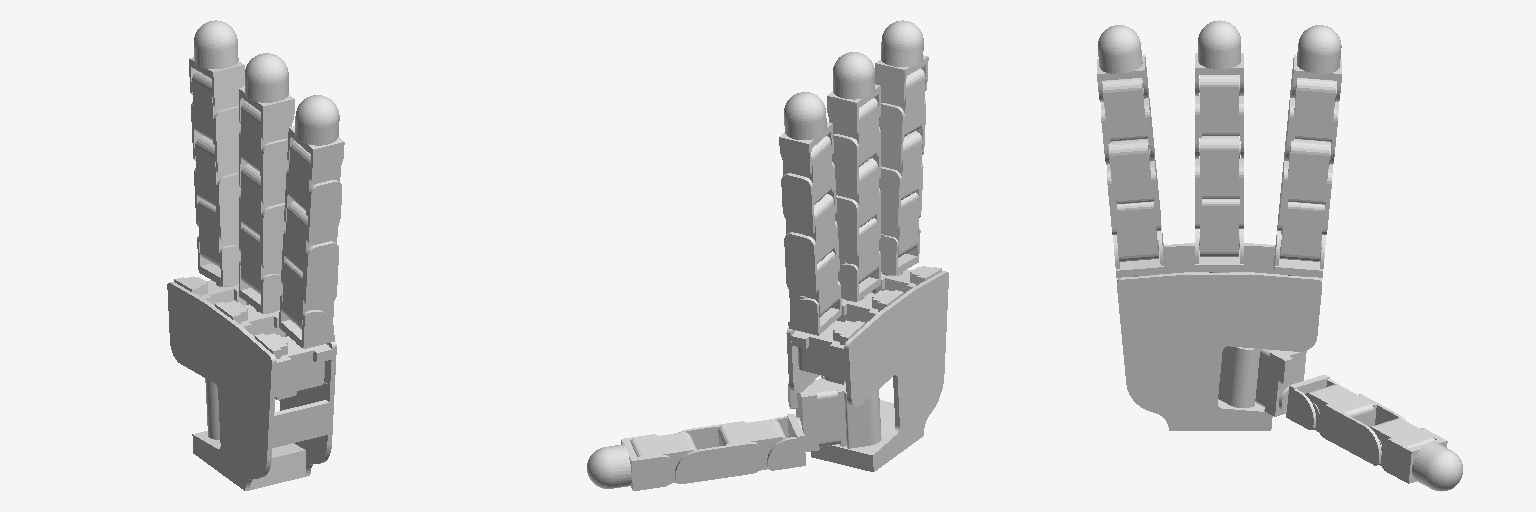
The robot description file, URDF, robot "allegro_right":
<!-- <?xml version="1.0" encoding="utf-8"?> -->
<robot name="allegro_right">
  <!-- zhenyu: add xyzrpy virtual joints between world and robot to represent base link transform [BEGIN] -->
  <link name="world"/>
  <link name="virtual_link_x"/>
  <joint name="virtual_joint_x" type="prismatic">
    <parent link="world"/>
    <child link="virtual_link_x"/>

    <origin rpy="0 0 0" xyz="0 0 0"/>
    <axis xyz="1 0 0"/>
    <limit effort="300" lower="-10" upper="10" velocity="2"/>
  </joint>

  <link name="virtual_link_y"/>
  <joint name="virtual_joint_y" type="prismatic">
    <parent link="virtual_link_x"/>
    <child link="virtual_link_y"/>

    <origin rpy="0 0 0" xyz="0 0 0"/>
    <axis xyz="0 1 0"/>
    <limit effort="300" lower="-10" upper="10" velocity="2"/>
  </joint>

  <link name="virtual_link_z"/>
  <joint name="virtual_joint_z" type="prismatic">
    <parent link="virtual_link_y"/>
    <child link="virtual_link_z"/>

    <origin rpy="0 0 0" xyz="0 0 0"/>
    <axis xyz="0 0 1"/>
    <limit effort="300" lower="-10" upper="10" velocity="2"/>
  </joint>

  <link name="virtual_link_roll"/>
  <joint name="virtual_joint_roll" type="revolute">
    <parent link="virtual_link_z"/>
    <child link="virtual_link_roll"/>

    <origin rpy="0 0 0" xyz="0 0 0"/>
    <axis xyz="1 0 0"/>
    <limit effort="100" velocity="100" lower="-6.283185" upper="6.283185"/>
  </joint>

  <link name="virtual_link_pitch"/>
  <joint name="virtual_joint_pitch" type="revolute">
    <parent link="virtual_link_roll"/>
    <child link="virtual_link_pitch"/>

    <origin rpy="0 0 0" xyz="0 0 0"/>
    <axis xyz="0 1 0"/>
    <limit effort="100" velocity="100" lower="-6.283185" upper="6.283185"/>
  </joint>

  <link name="virtual_link_yaw"/>
  <joint name="virtual_joint_yaw" type="revolute">
    <parent link="virtual_link_pitch"/>
    <child link="virtual_link_yaw"/>

    <origin rpy="0 0 0" xyz="0 0 0"/>
    <axis xyz="0 0 1"/>
    <limit effort="100" velocity="100" lower="-6.283185" upper="6.283185"/>
  </joint>

  <joint name="virtual_robot" type="fixed">
    <parent link="virtual_link_yaw"/>
    <child link="base_link"/>
    <origin rpy="0 0 0" xyz="0 0 0"/>
  </joint>
  <!-- zhenyu: add xyzrpy virtual joints between world and robot to represent base link transform [END] -->

  <link name="base_link">
    <inertial>
      <mass value="0.4154"/>
      <origin rpy="0 0 0" xyz="0 0 0"/>
      <inertia ixx="0.0001" ixy="0" ixz="0" iyy="0.0001" iyz="0" izz="0.0001"/>
    </inertial>
    <visual>
      <geometry>
        <mesh filename="meshes/visual/base_link_right.obj"/>
      </geometry>
      <origin rpy="1.5707949999999999 0 0" xyz="0 0 0"/>
      <material name="white">
        <color rgba=".9 .9 .9 1"/>
      </material>
    </visual>
    <collision>
      <origin rpy="0 0 0" xyz="-0.0089999999999999993 0 -0.023"/>
      <geometry>
        <box size="0.0414 0.112 0.0448"/>
      </geometry>
    </collision>
    <collision>
      <origin rpy="0 0 0" xyz="-0.0089999999999999993 -0.0253 -0.066699999999999995"/>
      <geometry>
        <box size="0.0414 0.0538 0.0428"/>
      </geometry>
    </collision>
    <collision>
      <origin rpy="0 0 0" xyz="-0.0092999999999999992 -0.0055700000000000003 -0.088739999999999999"/>
      <geometry>
        <box size="0.0414 0.0720 0.013"/>
      </geometry>
    </collision>
  </link> <!--  virtual link-->
  <link name="link_0.0">
    <visual>
      <geometry>
        <mesh filename="meshes/visual/link_0.0.obj"/>
      </geometry>
      <material name="white">
        <color rgba=".9 .9 .9 1"/>
      </material>
    </visual>
    <collision>
      <geometry>
        <box size="0.0196 0.0275 0.0164"/>
      </geometry>
      <origin rpy="0 0 0" xyz="0 0 0.0082000000000000007"/>
    </collision>
    <inertial>
      <mass value="0.0119"/>
      <origin xyz="0 0 0" rpy="0 0 0"/>
      <inertia ixx="1.01666658333e-06" ixy="0" ixz="0" iyy="6.4767733333299999e-07" iyz="0" izz="1.01666658333e-06"/>
    </inertial>
  </link>
  <joint name="joint_0.0" type="revolute">
    <axis xyz="0 0 -1"/>
    <limit effort="10" lower="-0.47" upper="0.47" velocity="3.14"/>
    <parent link="base_link"/>
    <child link="link_0.0"/>
    <origin rpy="0.087266462550000007 0 0" xyz="0 -0.043499999999999997 -0.001542"/>
  </joint>
  <link name="link_1.0">
    <inertial>
      <mass value="0.065"/>
      <origin xyz="0 0 0" rpy="0 0 0"/>
      <inertia ixx="7.9565416666700005e-05" ixy="-1.7198999999999999e-05" ixz="8.7587499999999998e-06" iyy="2.4708883333300001e-05" iyz="-2.413125e-05" izz="7.9565416666700005e-05"/>
    </inertial>
    <visual>
      <geometry>
        <mesh filename="meshes/visual/link_1.0.obj"/>
      </geometry>
      <material name="white">
        <color rgba=".9 .9 .9 1"/>
      </material>
    </visual>
    <collision>
      <geometry>
        <box size="0.0196 0.0275 0.054"/>
      </geometry>
      <origin rpy="0 0 0" xyz="0 0 0.027"/>
    </collision>
  </link>
  <joint name="joint_1.0" type="revolute">
    <limit effort="10" lower="-0.196" upper="1.61" velocity="3.14"/>
    <axis xyz="0 1 0"/>
    <parent link="link_0.0"/>
    <child link="link_1.0"/>
    <origin xyz="0 0 0.016400000000000001"/>
  </joint>
  <link name="link_2.0">
    <inertial>
      <mass value="0.0355"/>
      <origin xyz="0 0 0" rpy="0 0 0"/>
      <inertia ixx="2.63979183333e-05" ixy="-6.6796800000000001e-06" ixz="4.7836250000000003e-06" iyy="1.34948516667e-05" iyz="-9.3719999999999994e-06" izz="2.63979183333e-05"/>
    </inertial>
    <visual>
      <geometry>
        <mesh filename="meshes/visual/link_2.0.obj"/>
      </geometry>
      <material name="white">
        <color rgba=".9 .9 .9 1"/>
      </material>
    </visual>
    <collision>
      <geometry>
        <box size="0.0196 0.0275 0.0384"/>
      </geometry>
      <origin rpy="0 0 0" xyz="0 0 0.019199999999999998"/>
    </collision>
  </link>
  <joint name="joint_2.0" type="revolute">
    <axis xyz="0 1 0"/>
    <limit effort="10" lower="-0.174" upper="1.709" velocity="3.14"/>
    <parent link="link_1.0"/>
    <child link="link_2.0"/>
    <origin xyz="0 0 0.053999999999999999"/>
  </joint>
  <link name="link_3.0">
    <visual>
      <geometry>
        <mesh filename="meshes/visual/link_3.0.obj"/>
      </geometry>
      <material name="white">
        <color rgba=".9 .9 .9 1"/>
      </material>
    </visual>
    <collision>
      <geometry>
        <box size="0.0196 0.0269 0.022"/>
      </geometry>
      <origin rpy="0 0 0" xyz="0 0 0.0047000000000000002"/>
    </collision>
    <inertial>
      <origin rpy="0 0 0" xyz="0 0 0.013350000000000001"/>
      <mass value="0.02"/>
      <inertia ixx="1.0000000000000001e-05" ixy="0" ixz="0" iyy="2.0000000000000002e-05" iyz="0" izz="2.0000000000000002e-05"/>
    </inertial>
  </link>
  <joint name="joint_3.0" type="revolute">
    <axis xyz="0 1 0"/>
    <limit effort="10" lower="-0.227" upper="1.618" velocity="3.14"/>
    <parent link="link_2.0"/>
    <child link="link_3.0"/>
    <origin xyz="0 0 0.038399999999999997"/>
  </joint>
  <link name="link_3.0_tip">
    <inertial>
      <mass value="0.0168"/>
      <origin xyz="0 0 0" rpy="0 0 0"/>
      <inertia ixx="9.6800000000000009e-07" ixy="0" ixz="0" iyy="9.6800000000000009e-07" iyz="0" izz="9.6800000000000009e-07"/>
    </inertial>
    <visual>
      <geometry>
        <mesh filename="meshes/visual/link_tip.obj"/>
      </geometry>
      <material name="white">
        <color rgba=".9 .9 .9 1"/>
      </material>
    </visual>
    <collision>
      <geometry>
        <mesh filename="meshes/collision/link_tip.obj"/>
      </geometry>
    </collision>
  </link>
  <joint name="joint_3.0_tip" type="fixed">
    <parent link="link_3.0"/>
    <child link="link_3.0_tip"/>
    <origin rpy="0 0 0" xyz="0 0 0.026700000000000002"/>
  </joint>
  <link name="link_4.0">
    <inertial>
      <mass value="0.005"/>
      <origin xyz="0 0 0"/>
      <inertia ixx="5.1458000000000001e-05" iyy="5.1458000000000001e-05" izz="6.1249999999999998e-05" ixy="0" ixz="0" iyz="0"/>
    </inertial>
    <visual>
      <geometry>
        <mesh filename="meshes/visual/link_0.0.obj"/>
      </geometry>
      <material name="white">
        <color rgba=".9 .9 .9 1"/>
      </material>
    </visual>
    <collision>
      <geometry>
        <box size="0.0196 0.0275 0.0164"/>
      </geometry>
      <origin rpy="0 0 0" xyz="0 0 0.0082000000000000007"/>
    </collision>
  </link>
  <joint name="joint_4.0" type="revolute">
    <axis xyz="0 0 -1"/>
    <limit effort="10" lower="-0.47" upper="0.47" velocity="3.14"/>
    <parent link="base_link"/>
    <child link="link_4.0"/>
    <origin rpy="0 0 0" xyz="0 0 0.00069999999999999999"/>
  </joint>
  <link name="link_5.0">
    <inertial>
      <mass value="0.065"/>
      <origin xyz="0 0 0" rpy="0 0 0"/>
      <inertia ixx="7.9565416666700005e-05" ixy="-1.7198999999999999e-05" ixz="8.7587499999999998e-06" iyy="2.4708883333300001e-05" iyz="-2.413125e-05" izz="7.9565416666700005e-05"/>
    </inertial>
    <visual>
      <geometry>
        <mesh filename="meshes/visual/link_1.0.obj"/>
      </geometry>
      <material name="white">
        <color rgba=".9 .9 .9 1"/>
      </material>
    </visual>
    <collision>
      <geometry>
        <box size="0.0196 0.0275 0.054"/>
      </geometry>
      <origin rpy="0 0 0" xyz="0 0 0.027"/>
    </collision>
  </link>
  <joint name="joint_5.0" type="revolute">
    <limit effort="10" lower="-0.196" upper="1.61" velocity="3.14"/>
    <axis xyz="0 1 0"/>
    <parent link="link_4.0"/>
    <child link="link_5.0"/>
    <origin xyz="0 0 0.016400000000000001"/>
  </joint>
  <link name="link_6.0">
    <inertial>
      <mass value="0.0355"/>
      <origin xyz="0 0 0" rpy="0 0 0"/>
      <inertia ixx="2.63979183333e-05" ixy="-6.6796800000000001e-06" ixz="4.7836250000000003e-06" iyy="1.34948516667e-05" iyz="-9.3719999999999994e-06" izz="2.63979183333e-05"/>
    </inertial>
    <visual>
      <geometry>
        <mesh filename="meshes/visual/link_2.0.obj"/>
      </geometry>
      <material name="white">
        <color rgba=".9 .9 .9 1"/>
      </material>
    </visual>
    <collision>
      <geometry>
        <box size="0.0196 0.0275 0.0384"/>
      </geometry>
      <origin rpy="0 0 0" xyz="0 0 0.019199999999999998"/>
    </collision>
  </link>
  <joint name="joint_6.0" type="revolute">
    <axis xyz="0 1 0"/>
    <limit effort="10" lower="-0.174" upper="1.709" velocity="3.14"/>
    <parent link="link_5.0"/>
    <child link="link_6.0"/>
    <origin xyz="0 0 0.053999999999999999"/>
  </joint>
  <link name="link_7.0">
    <inertial>
      <mass value="0.0388"/>
      <origin xyz="0 0 0" rpy="0 0 0"/>
      <inertia ixx="3.2922317333299999e-05" ixy="-8.0420759999999998e-06" ixz="5.2283000000000004e-06" iyy="1.47493026667e-05" iyz="-1.1283525e-05" izz="3.2922317333299999e-05"/>
    </inertial>
    <visual>
      <geometry>
        <mesh filename="meshes/visual/link_3.0.obj"/>
      </geometry>
      <material name="white">
        <color rgba=".9 .9 .9 1"/>
      </material>
    </visual>
    <collision>
      <geometry>
        <box size="0.0196 0.0269 0.022"/>
      </geometry>
      <origin rpy="0 0 0" xyz="0 0 0.0047000000000000002"/>
    </collision>
  </link>
  <joint name="joint_7.0" type="revolute">
    <axis xyz="0 1 0"/>
    <limit effort="10" lower="-0.227" upper="1.618" velocity="3.14"/>
    <parent link="link_6.0"/>
    <child link="link_7.0"/>
    <origin xyz="0 0 0.038399999999999997"/>
  </joint>
  <link name="link_7.0_tip">
    <inertial>
      <mass value="0.0096"/>
      <origin xyz="0 0 0" rpy="0 0 0"/>
      <inertia ixx="4.7012479999999996e-06" ixy="-1.2559680000000001e-06" ixz="1.2936e-06" iyy="3.6493119999999998e-06" iyz="-1.7622e-06" izz="4.7012479999999996e-06"/>
    </inertial>
    <visual>
      <geometry>
        <mesh filename="meshes/visual/link_tip.obj"/>
      </geometry>
      <material name="white">
        <color rgba=".9 .9 .9 1"/>
      </material>
    </visual>
    <collision>
      <geometry>
        <mesh filename="meshes/collision/link_tip.obj"/>
      </geometry>
    </collision>
  </link>
  <joint name="joint_7.0_tip" type="fixed">
    <parent link="link_7.0"/>
    <child link="link_7.0_tip"/>
    <origin rpy="0 0 0" xyz="0 0 0.026700000000000002"/>
  </joint>
  <link name="link_8.0">
    <inertial>
      <mass value="0.005"/>
      <origin xyz="0 0 0"/>
      <inertia ixx="5.1458000000000001e-05" iyy="5.1458000000000001e-05" izz="6.1249999999999998e-05" ixy="0" ixz="0" iyz="0"/>
    </inertial>
    <visual>
      <geometry>
        <mesh filename="meshes/visual/link_0.0.obj"/>
      </geometry>
      <material name="white">
        <color rgba=".9 .9 .9 1"/>
      </material>
    </visual>
    <collision>
      <geometry>
        <box size="0.0196 0.0275 0.0164"/>
      </geometry>
      <origin rpy="0 0 0" xyz="0 0 0.0082000000000000007"/>
    </collision>
  </link>
  <joint name="joint_8.0" type="revolute">
    <axis xyz="0 0 -1"/>
    <limit effort="10" lower="-0.47" upper="0.47" velocity="3.14"/>
    <parent link="base_link"/>
    <child link="link_8.0"/>
    <origin rpy="-0.087266462550000007 0 0" xyz="0 0.043499999999999997 -0.001542"/>
  </joint>
  <link name="link_9.0">
    <inertial>
      <mass value="0.065"/>
      <origin xyz="0 0 0" rpy="0 0 0"/>
      <inertia ixx="7.9565416666700005e-05" ixy="-1.7198999999999999e-05" ixz="8.7587499999999998e-06" iyy="2.4708883333300001e-05" iyz="-2.413125e-05" izz="7.9565416666700005e-05"/>
    </inertial>
    <visual>
      <geometry>
        <mesh filename="meshes/visual/link_1.0.obj"/>
      </geometry>
      <material name="white">
        <color rgba=".9 .9 .9 1"/>
      </material>
    </visual>
    <collision>
      <geometry>
        <box size="0.0196 0.0275 0.054"/>
      </geometry>
      <origin rpy="0 0 0" xyz="0 0 0.027"/>
    </collision>
  </link>
  <joint name="joint_9.0" type="revolute">
    <limit effort="10" lower="-0.196" upper="1.61" velocity="3.14"/>
    <axis xyz="0 1 0"/>
    <parent link="link_8.0"/>
    <child link="link_9.0"/>
    <origin xyz="0 0 0.016400000000000001"/>
  </joint>
  <link name="link_10.0">
    <inertial>
      <mass value="0.0355"/>
      <origin xyz="0 0 0" rpy="0 0 0"/>
      <inertia ixx="2.63979183333e-05" ixy="-6.6796800000000001e-06" ixz="4.7836250000000003e-06" iyy="1.34948516667e-05" iyz="-9.3719999999999994e-06" izz="2.63979183333e-05"/>
    </inertial>
    <visual>
      <geometry>
        <mesh filename="meshes/visual/link_2.0.obj"/>
      </geometry>
      <material name="white">
        <color rgba=".9 .9 .9 1"/>
      </material>
    </visual>
    <collision>
      <geometry>
        <box size="0.0196 0.0275 0.0384"/>
      </geometry>
      <origin rpy="0 0 0" xyz="0 0 0.019199999999999998"/>
    </collision>
  </link>
  <joint name="joint_10.0" type="revolute">
    <axis xyz="0 1 0"/>
    <limit effort="10" lower="-0.174" upper="1.709" velocity="3.14"/>
    <parent link="link_9.0"/>
    <child link="link_10.0"/>
    <origin xyz="0 0 0.053999999999999999"/>
  </joint>
  <link name="link_11.0">
    <inertial>
      <mass value="0.0096"/>
      <origin xyz="0 0 0" rpy="0 0 0"/>
      <inertia ixx="4.7012479999999996e-06" ixy="-1.2559680000000001e-06" ixz="1.2936e-06" iyy="3.6493119999999998e-06" iyz="-1.7622e-06" izz="4.7012479999999996e-06"/>
    </inertial>
    <visual>
      <geometry>
        <mesh filename="meshes/visual/link_3.0.obj"/>
      </geometry>
      <material name="white">
        <color rgba=".9 .9 .9 1"/>
      </material>
    </visual>
    <collision>
      <geometry>
        <box size="0.0196 0.0269 0.022"/>
      </geometry>
      <origin rpy="0 0 0" xyz="0 0 0.0047000000000000002"/>
    </collision>
  </link>
  <joint name="joint_11.0" type="revolute">
    <axis xyz="0 1 0"/>
    <limit effort="10" lower="-0.227" upper="1.618" velocity="3.14"/>
    <parent link="link_10.0"/>
    <child link="link_11.0"/>
    <origin xyz="0 0 0.038399999999999997"/>
  </joint>
  <link name="link_11.0_tip">
    <inertial>
      <mass value="0.0168"/>
      <origin xyz="0 0 0" rpy="0 0 0"/>
      <inertia ixx="9.6800000000000009e-07" ixy="0" ixz="0" iyy="9.6800000000000009e-07" iyz="0" izz="9.6800000000000009e-07"/>
    </inertial>
    <visual>
      <geometry>
        <mesh filename="meshes/visual/link_tip.obj"/>
      </geometry>
      <material name="white">
        <color rgba=".9 .9 .9 1"/>
      </material>
    </visual>
    <collision>
      <geometry>
        <mesh filename="meshes/collision/link_tip.obj"/>
      </geometry>
    </collision>
  </link>
  <joint name="joint_11.0_tip" type="fixed">
    <parent link="link_11.0"/>
    <child link="link_11.0_tip"/>
    <origin rpy="0 0 0" xyz="0 0 0.026700000000000002"/>
  </joint> <!-- THUMB -->
  <link name="link_12.0">
    <inertial>
      <mass value="0.0176"/>
      <origin xyz="0 0 0" rpy="0 0 0"/>
      <inertia ixx="1.8927333333299998e-05" ixy="-7.1671600000000003e-06" ixz="5.3556799999999997e-06" iyy="1.43008213333e-05" iyz="-6.8067999999999998e-06" izz="1.8927333333299998e-05"/>
    </inertial>
    <visual>
      <geometry>
        <mesh filename="meshes/visual/link_12.0_right.obj"/>
      </geometry>
      <origin rpy="-3.1415899999999999 0 0" xyz="0 0 0"/>
      <material name="white">
        <color rgba=".9 .9 .9 1"/>
      </material>
    </visual>
    <collision>
      <geometry>
        <box size="0.0358 0.034 0.0455"/>
      </geometry>
      <origin rpy="0 0 0" xyz="-0.017899999999999999 -0.0089999999999999993 0.014500000000000001"/>
    </collision>
  </link>
  <joint name="joint_12.0" type="revolute">
    <axis xyz="-1 0 0"/>
    <limit effort="10" lower="0.263" upper="1.396" velocity="3.14"/>
    <parent link="base_link"/>
    <child link="link_12.0"/>
    <origin xyz="-0.018200000000000001 0.019332999999999999 -0.045987" rpy="0 -1.6580627884500001 -1.5707963259"/>
  </joint>
  <link name="link_13.0">
    <inertial>
      <mass value="0.0119"/>
      <origin xyz="0 0 0" rpy="0 0 0"/>
      <inertia ixx="4.24250866667e-06" ixy="-1.0320870000000001e-06" ixz="1.603525e-06" iyy="4.5236263333299997e-06" iyz="-1.4480812499999999e-06" izz="4.24250866667e-06"/>
    </inertial>
    <visual>
      <geometry>
        <mesh filename="meshes/visual/link_13.0.obj"/>
      </geometry>
      <material name="white">
        <color rgba=".9 .9 .9 1"/>
      </material>
    </visual>
    <collision>
      <geometry>
        <box size="0.0196 0.0275 0.0177"/>
      </geometry>
      <origin rpy="0 0 0" xyz="0 0 0.0088500000000000002"/>
    </collision>
  </link>
  <joint name="joint_13.0" type="revolute">
    <axis xyz="0 0 1"/>
    <limit effort="10" lower="-0.105" upper="1.163" velocity="3.14"/>
    <parent link="link_12.0"/>
    <child link="link_13.0"/>
    <origin xyz="-0.027 -0.0050000000000000001 0.039899999999999998"/>
  </joint>
  <link name="link_14.0">
    <inertial>
      <mass value="0.038"/>
      <origin xyz="0 0 0" rpy="0 0 0"/>
      <inertia ixx="4.3043993333300001e-05" ixy="-9.57068e-06" ixz="5.1205000000000004e-06" iyy="1.44451933333e-05" iyz="-1.342825e-05" izz="4.3043993333300001e-05"/>
    </inertial>
    <visual>
      <geometry>
        <mesh filename="meshes/visual/link_14.0.obj"/>
      </geometry>
      <material name="white">
        <color rgba=".9 .9 .9 1"/>
      </material>
    </visual>
    <collision>
      <geometry>
        <box size="0.0196 0.0275 0.0514"/>
      </geometry>
      <origin rpy="0 0 0" xyz="0 0 0.025700000000000001"/>
    </collision>
  </link>
  <joint name="joint_14.0" type="revolute">
    <axis xyz="0 1 0"/>
    <limit effort="10" lower="-0.189" upper="1.644" velocity="3.14"/>
    <parent link="link_13.0"/>
    <child link="link_14.0"/>
    <origin xyz="0 0 0.0177"/>
  </joint>
  <link name="link_15.0">
    <inertial>
      <mass value="0.0388"/>
      <origin xyz="0 0 0" rpy="0 0 0"/>
      <inertia ixx="3.2922317333299999e-05" ixy="-8.0420759999999998e-06" ixz="5.2283000000000004e-06" iyy="1.47493026667e-05" iyz="-1.1283525e-05" izz="3.2922317333299999e-05"/>
    </inertial>
    <visual>
      <geometry>
        <mesh filename="meshes/visual/link_15.0.obj"/>
      </geometry>
      <material name="white">
        <color rgba=".9 .9 .9 1"/>
      </material>
    </visual>
    <collision>
      <geometry>
        <box size="0.0196 0.0269 0.04"/>
      </geometry>
      <origin rpy="0 0 0" xyz="0 0 0.01125"/>
    </collision>
  </link>
  <joint name="joint_15.0" type="revolute">
    <axis xyz="0 1 0"/>
    <limit effort="10" lower="-0.162" upper="1.719" velocity="3.14"/>
    <parent link="link_14.0"/>
    <child link="link_15.0"/>
    <origin xyz="0 0 0.051400000000000001"/>
  </joint>
  <link name="link_15.0_tip">
    <inertial>
      <mass value="0.0168"/>
      <origin xyz="0 0 0" rpy="0 0 0"/>
      <inertia ixx="9.6800000000000009e-07" ixy="0" ixz="0" iyy="9.6800000000000009e-07" iyz="0" izz="9.6800000000000009e-07"/>
    </inertial>
    <visual>
      <geometry>
        <mesh filename="meshes/visual/link_tip.obj"/>
      </geometry>
      <material name="white">
        <color rgba=".9 .9 .9 1"/>
      </material>
    </visual>
    <collision>
      <geometry>
        <mesh filename="meshes/collision/link_tip.obj"/>
      </geometry>
    </collision>
  </link>
  <joint name="joint_15.0_tip" type="fixed">
    <parent link="link_15.0"/>
    <child link="link_15.0_tip"/>
    <origin rpy="0 0 0" xyz="0 0 0.042299999999999997"/>
  </joint>
</robot>

--- What the picture shows (computed from the rendered views, not written in the file) ---
The picture shows the robot from 3 angles, left to right: view 1: azimuth 30°, elevation 25°; view 2: azimuth 150°, elevation 25°; view 3: azimuth 270°, elevation 25°; orthographic projection.
Robot: allegro_right — 28 links, 27 joints (19 revolute, 3 prismatic, 5 fixed); root link world; default pose: joints at zero except 1 at the middle of their limits (joint_12.0 = 0.8295).
Links seen in each view (by area): view 1: base_link, link_1.0, link_9.0, link_5.0, link_2.0, link_10.0, link_6.0, link_3.0_tip, link_7.0_tip, link_11.0_tip, link_0.0, link_11.0 (+5 smaller); view 2: base_link, link_14.0, link_12.0, link_9.0, link_5.0, link_1.0, link_10.0, link_15.0, link_6.0, link_2.0, link_11.0_tip, link_7.0_tip (+9 smaller); view 3: base_link, link_9.0, link_1.0, link_5.0, link_12.0, link_14.0, link_10.0, link_2.0, link_6.0, link_15.0, link_15.0_tip, link_3.0_tip (+9 smaller).
Link boxes in pixels (box(x1,y1,x2,y2)): base_link: box(167, 276, 336, 490); link_1.0: box(281, 201, 338, 329); link_9.0: box(194, 136, 240, 267); link_5.0: box(239, 164, 285, 294); link_2.0: box(284, 141, 341, 244); link_10.0: box(191, 71, 240, 174); link_6.0: box(239, 101, 291, 205); link_3.0_tip: box(295, 95, 339, 145); link_7.0_tip: box(245, 53, 288, 102); link_11.0_tip: box(194, 20, 238, 68); link_0.0: box(279, 292, 334, 348); link_11.0: box(189, 57, 244, 108); base_link: box(786, 266, 948, 471); link_14.0: box(675, 419, 785, 483); link_12.0: box(788, 375, 881, 451); link_9.0: box(784, 194, 839, 316); link_5.0: box(835, 158, 880, 283); link_1.0: box(879, 131, 923, 257); link_10.0: box(781, 136, 836, 235); link_15.0: box(621, 432, 696, 490); link_6.0: box(829, 98, 880, 198); link_2.0: box(879, 68, 925, 168); link_11.0_tip: box(784, 92, 826, 139); link_7.0_tip: box(833, 52, 874, 99); base_link: box(1117, 243, 1321, 430); link_9.0: box(1278, 139, 1332, 261); link_1.0: box(1107, 139, 1160, 261); link_5.0: box(1195, 136, 1243, 256); link_12.0: box(1218, 346, 1306, 416); link_14.0: box(1305, 384, 1405, 465); link_10.0: box(1284, 78, 1338, 164); link_2.0: box(1101, 78, 1154, 164); link_6.0: box(1195, 75, 1243, 158); link_15.0: box(1370, 418, 1447, 483); link_15.0_tip: box(1412, 442, 1462, 491); link_3.0_tip: box(1098, 25, 1142, 73).
Bounding box of the posed robot: 0.1315 × 0.2022 × 0.2432 m (x, y, z).
Meshes: 10 distinct files referenced, 21 mesh visuals loaded (10 OBJ).
